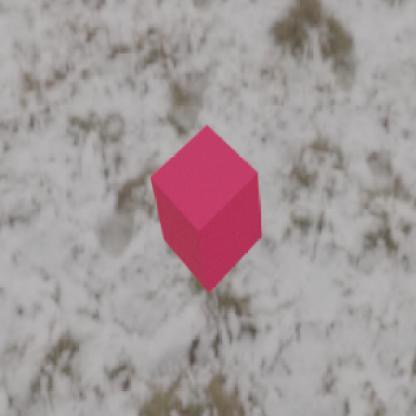cube: (150, 123, 262, 293)
